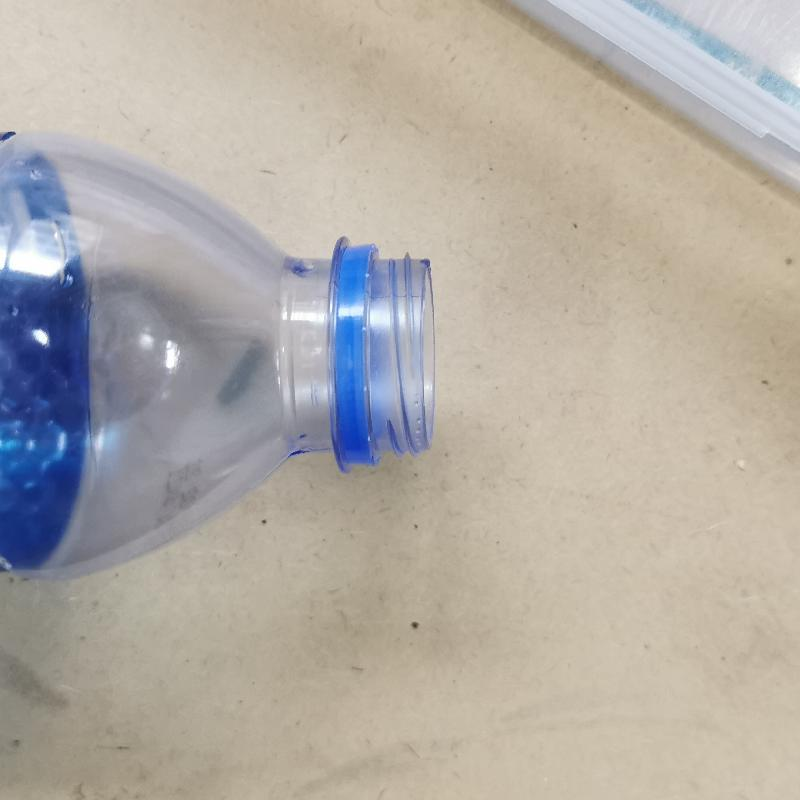bottles: (5, 105, 459, 595)
